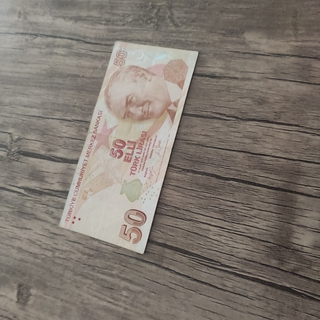50TLFront: (58, 39, 199, 255)
